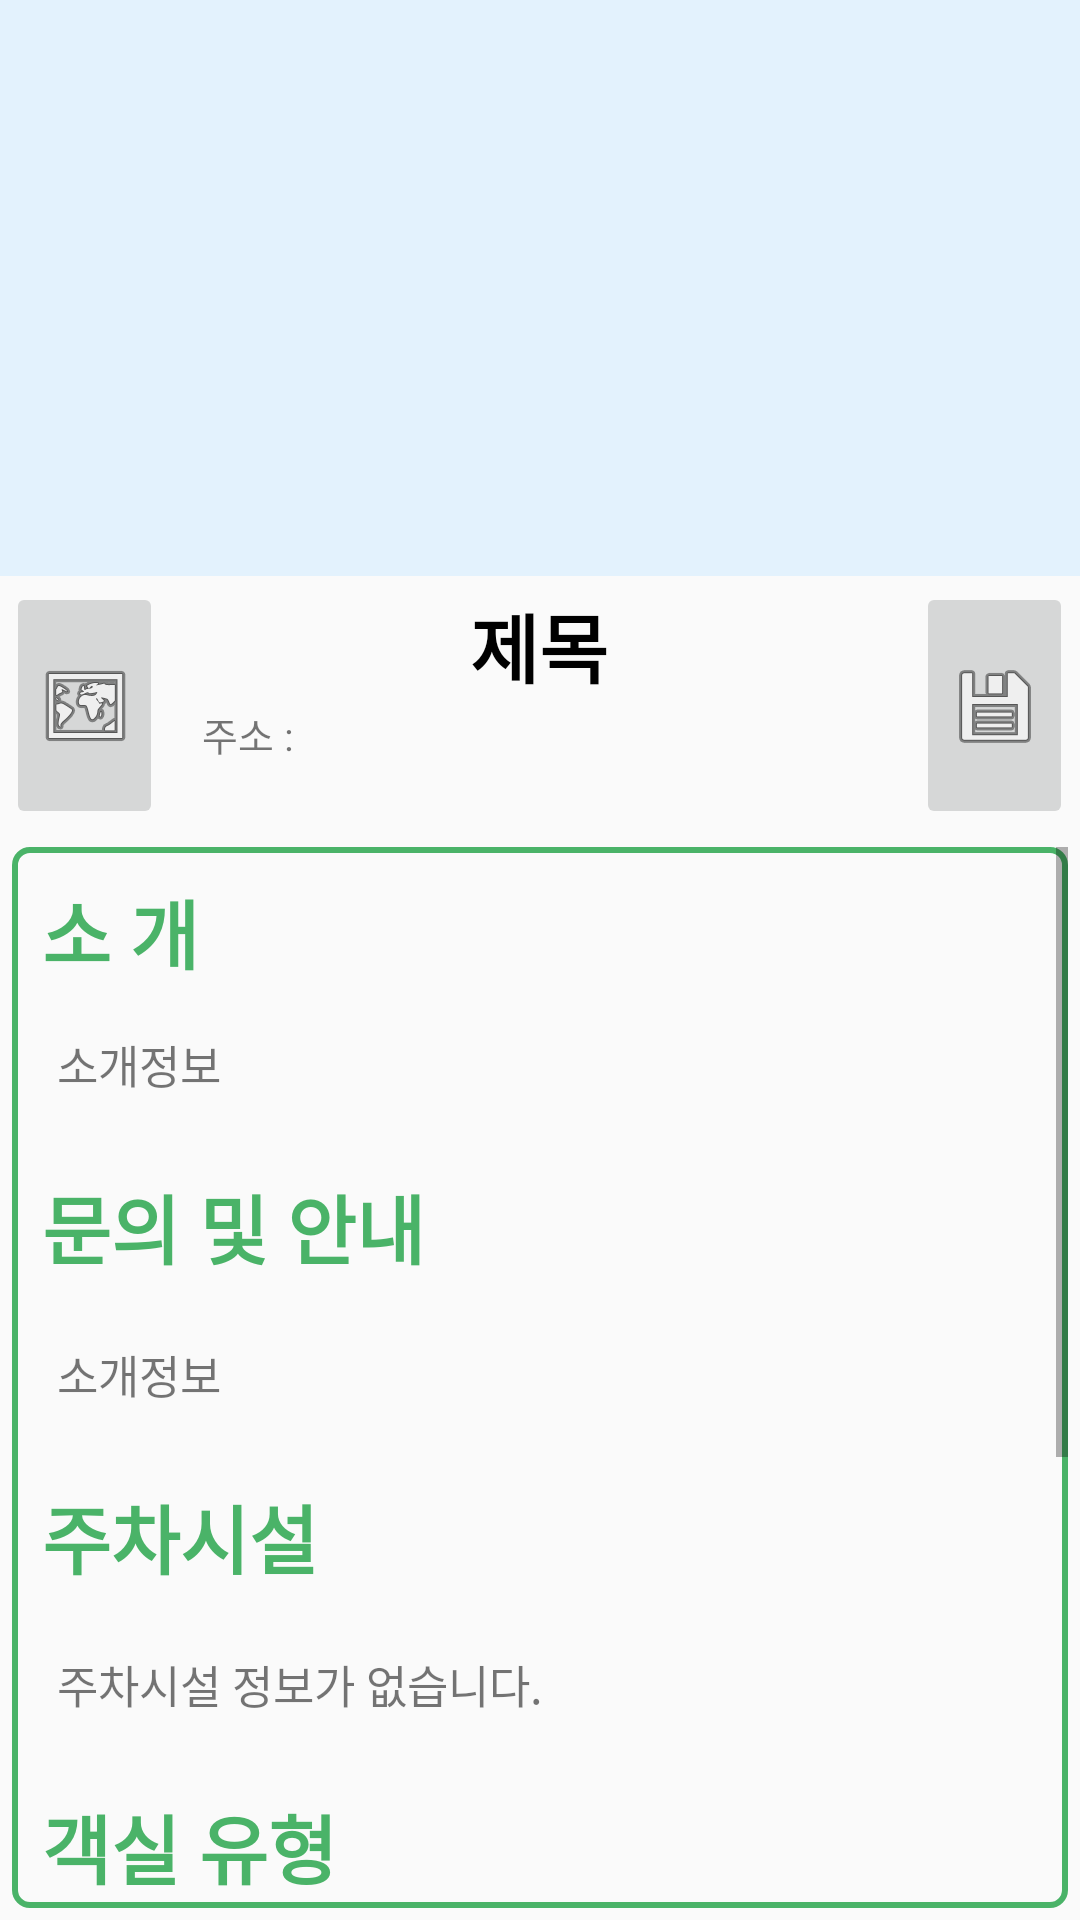

Icons on this 1080 x 1920 Android screen, each with its box as (x1, y1, x2, y2):
mapmode: (18, 600, 151, 811)
save: (928, 600, 1061, 811)
